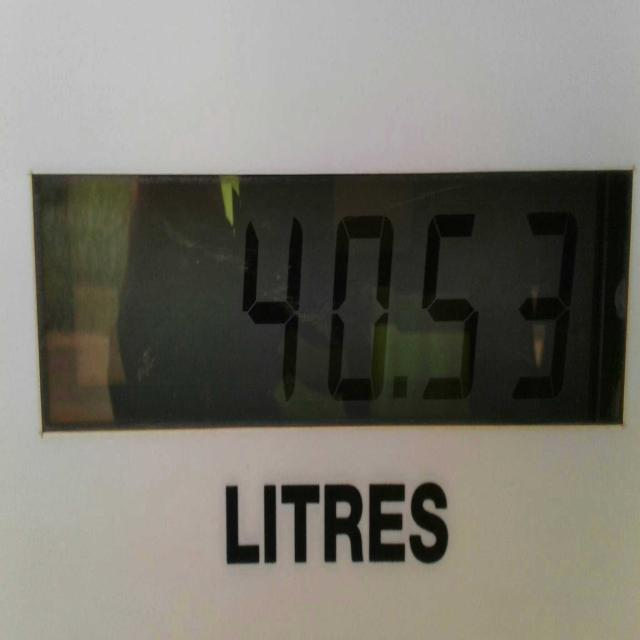.: (384, 360, 410, 417)
0: (319, 204, 399, 398)
3: (504, 198, 584, 410)
4: (220, 207, 320, 401)
5: (419, 207, 492, 412)
